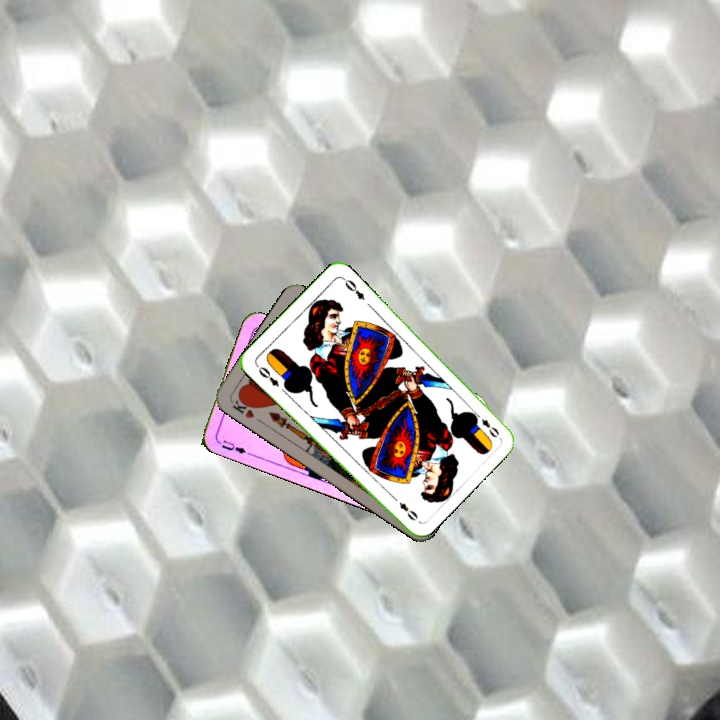EO: (470, 408, 502, 440), (252, 361, 281, 390)
EU: (217, 436, 253, 457)
HK: (228, 393, 258, 421)
